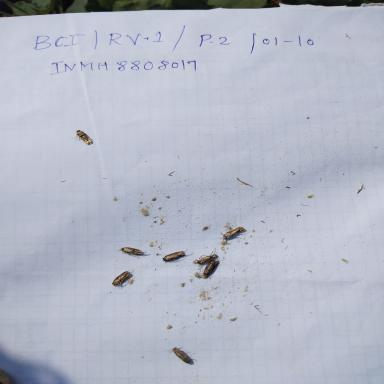pbw: (163, 340, 202, 368), (193, 258, 228, 281), (156, 246, 194, 266), (114, 240, 150, 260), (69, 127, 95, 151), (109, 267, 133, 291), (217, 224, 247, 242), (191, 247, 220, 265)
